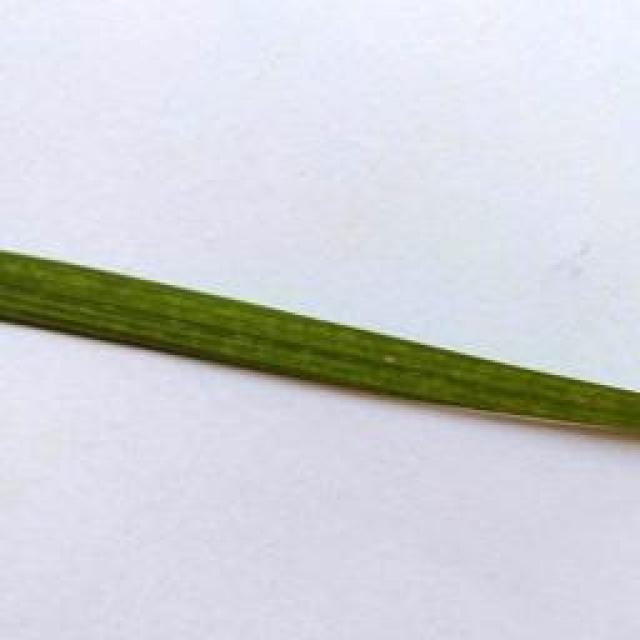Bacterial_Blight: (376, 340, 402, 389)
